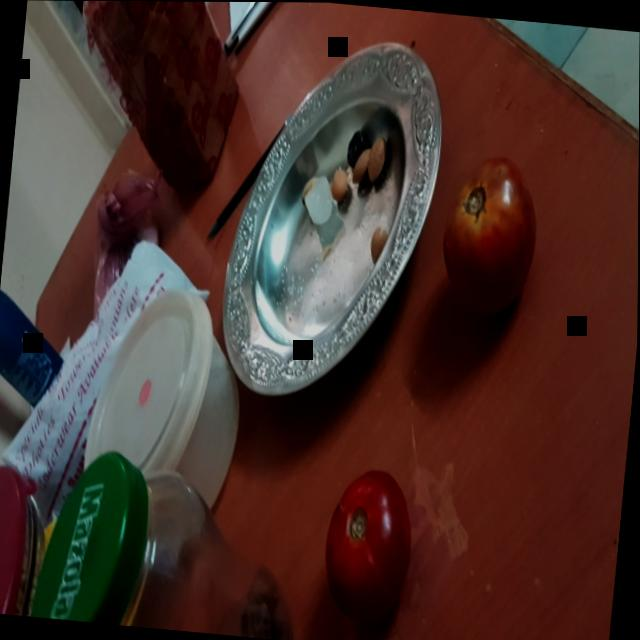tomato: (436, 148, 562, 332), (317, 463, 421, 627)
